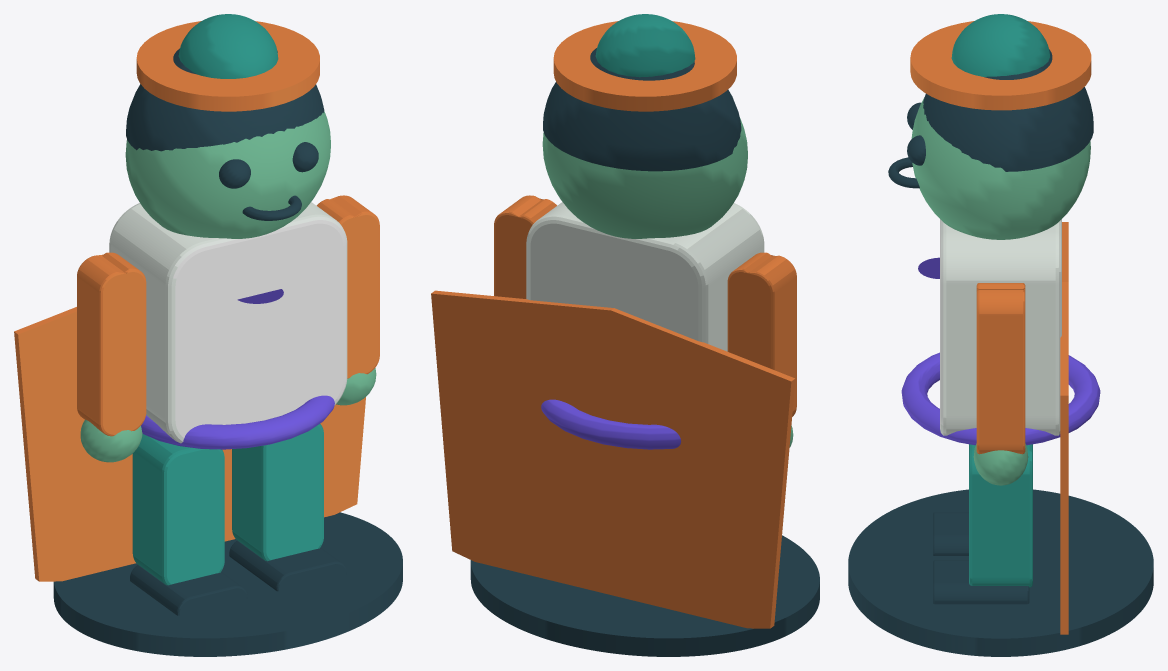
The model's file is 0775_天气与气候图鉴_球状闪电.glb.
The picture shows the model from 3 angles, left to right: view 1: azimuth 30°, elevation 25°; view 2: azimuth 150°, elevation 25°; view 3: azimuth 270°, elevation 25°; orthographic projection.
Visible parts, largest first — view 1: card_0775; view 2: card_0775; view 3: card_0775.
Boxes of the visible parts, box(x1,y1,x2,y2) form: card_0775: box(14, 14, 402, 656); card_0775: box(431, 14, 819, 656); card_0775: box(848, 14, 1153, 656).
Bounding box in the file's own units: 0.648 × 1 × 0.4818.
